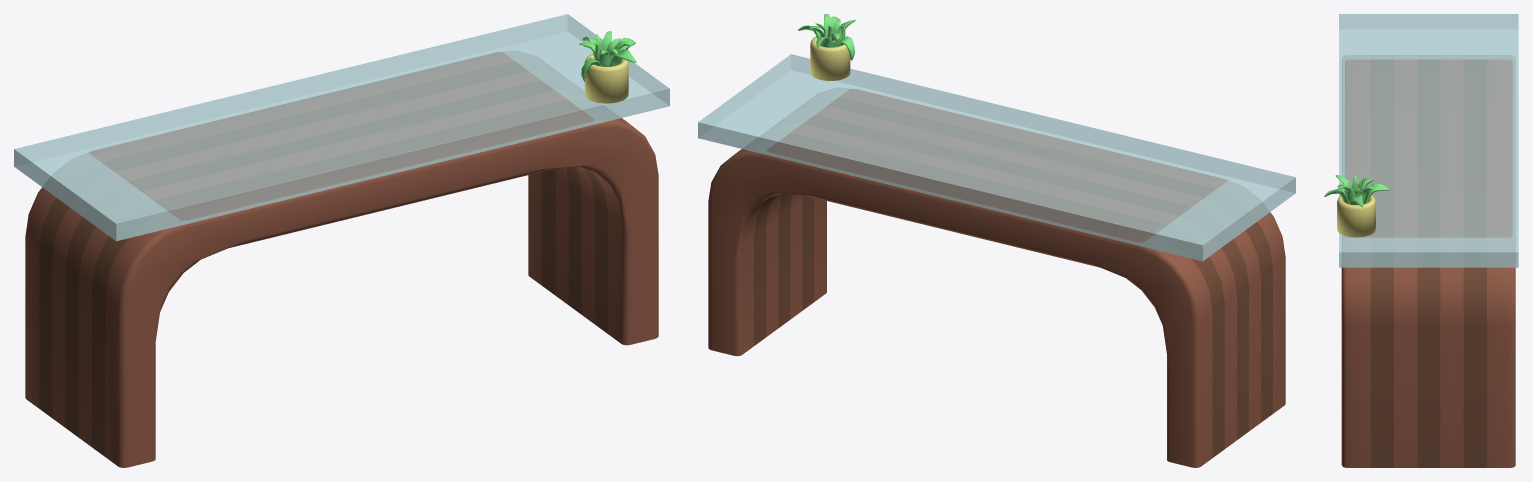
Rendered from Mesa 3x1.fbx.
3 views of the same model, side by side, from view 1: azimuth 30°, elevation 25°; view 2: azimuth 150°, elevation 25°; view 3: azimuth 270°, elevation 25° (orthographic). The views are drawn at different scales.
Visible parts, largest first — view 1: Cube; view 2: Cube; view 3: Cube.
Boxes of the visible parts, x1,y1,x2,y2 form: Cube: [14, 14, 669, 467]; Cube: [698, 14, 1295, 467]; Cube: [1324, 14, 1518, 467].
Bounding box in the file's own units: 308 × 106 × 162.
